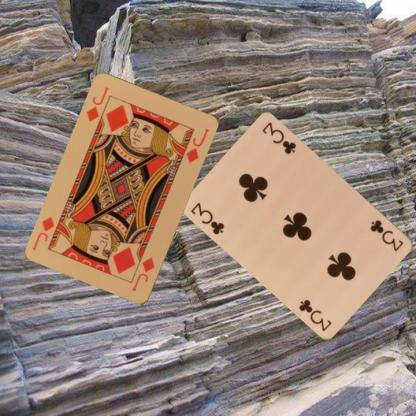3c: (367, 216, 405, 254), (188, 199, 226, 235)
Jd: (84, 84, 110, 123), (130, 255, 156, 293)
